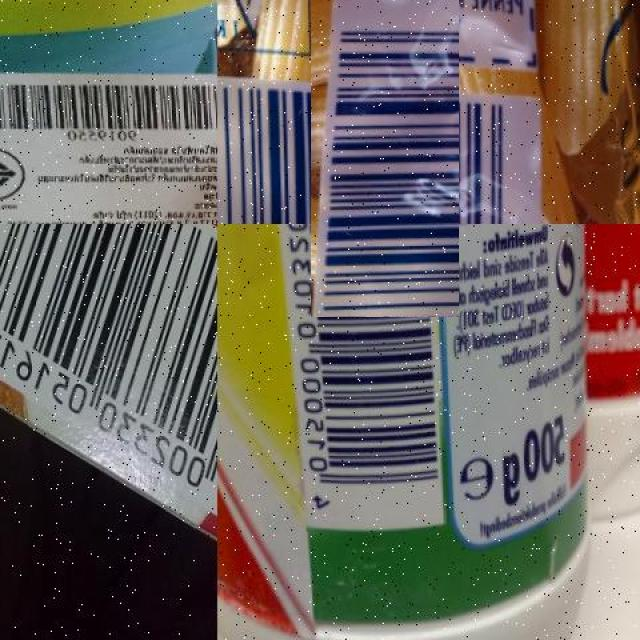Barcode: (0, 224, 217, 532), (264, 28, 505, 271), (278, 224, 446, 532), (0, 79, 217, 145)
